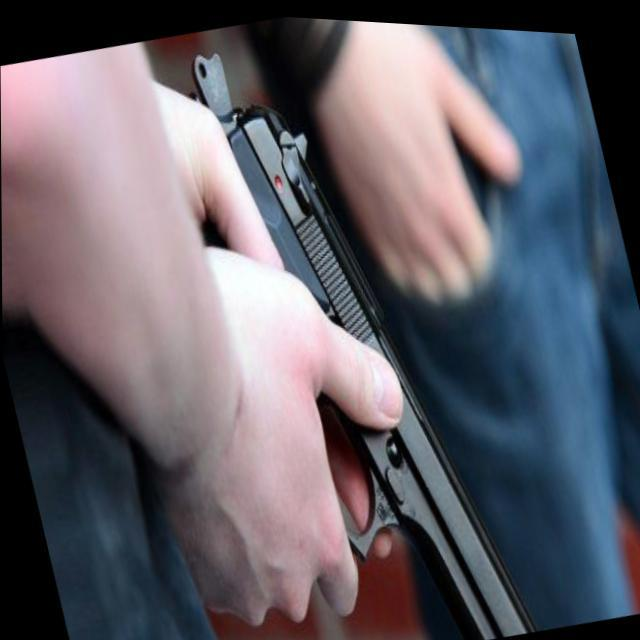weapon: (54, 3, 560, 640)
